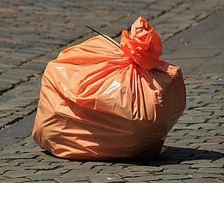plastic_bag: (29, 14, 188, 162)
